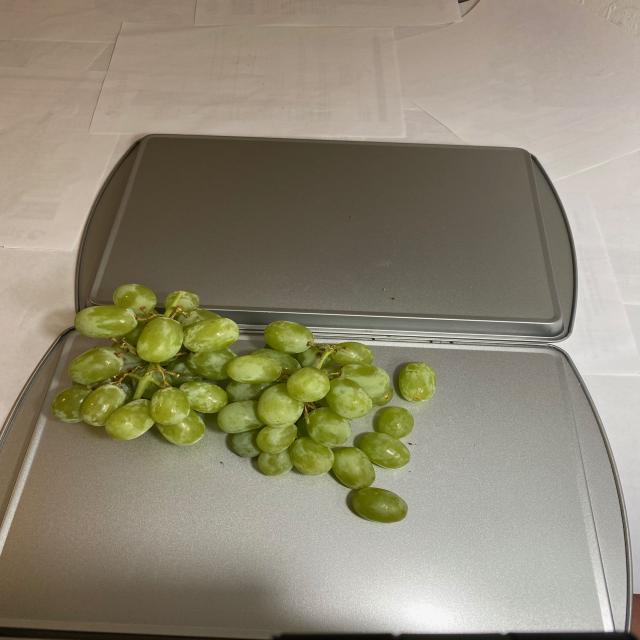Grapes: (47, 282, 439, 520)
